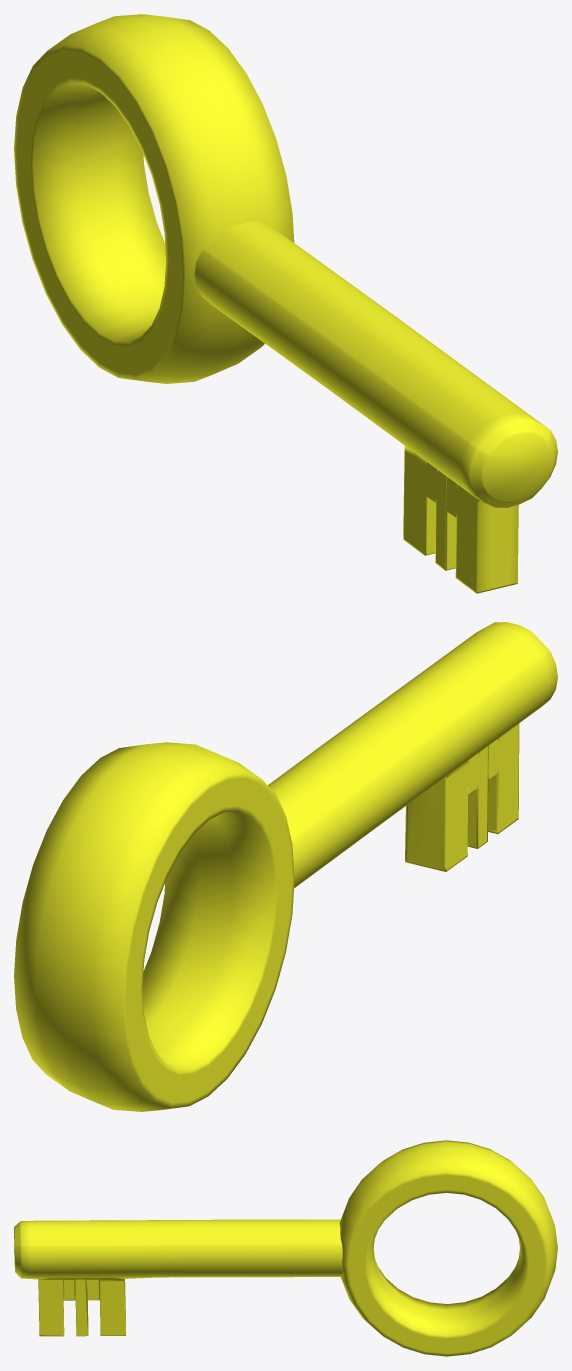
The model's file is Key1.fbx.
3 renders of one model, top to bottom at view 1: azimuth 30°, elevation 25°; view 2: azimuth 150°, elevation 25°; view 3: azimuth 270°, elevation 25°, orthographic. The views are drawn at different scales.
Parts seen in each view (by area): view 1: key_01; view 2: key_01; view 3: key_01.
Part boxes in pixels (x1,y1,x2,y2): key_01: (14,14,557,593); key_01: (14,622,557,1111); key_01: (14,1140,557,1356).
Bounding box in the file's own units: 60.83 × 181 × 443.
